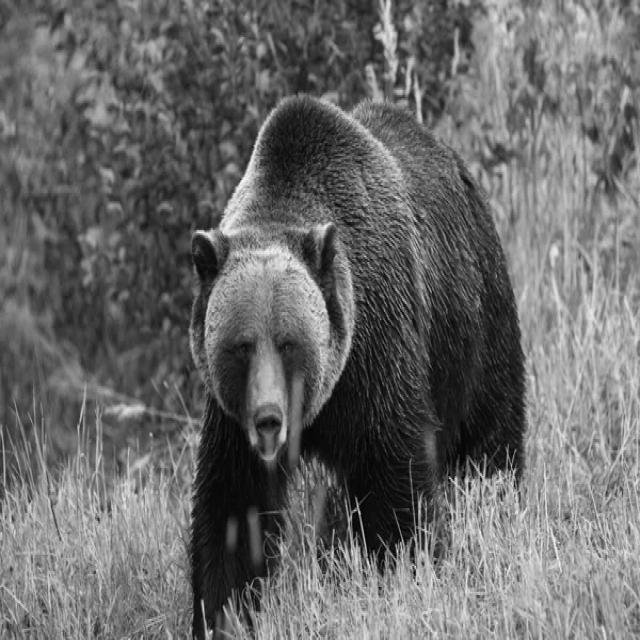Animal: (190, 97, 526, 639)
